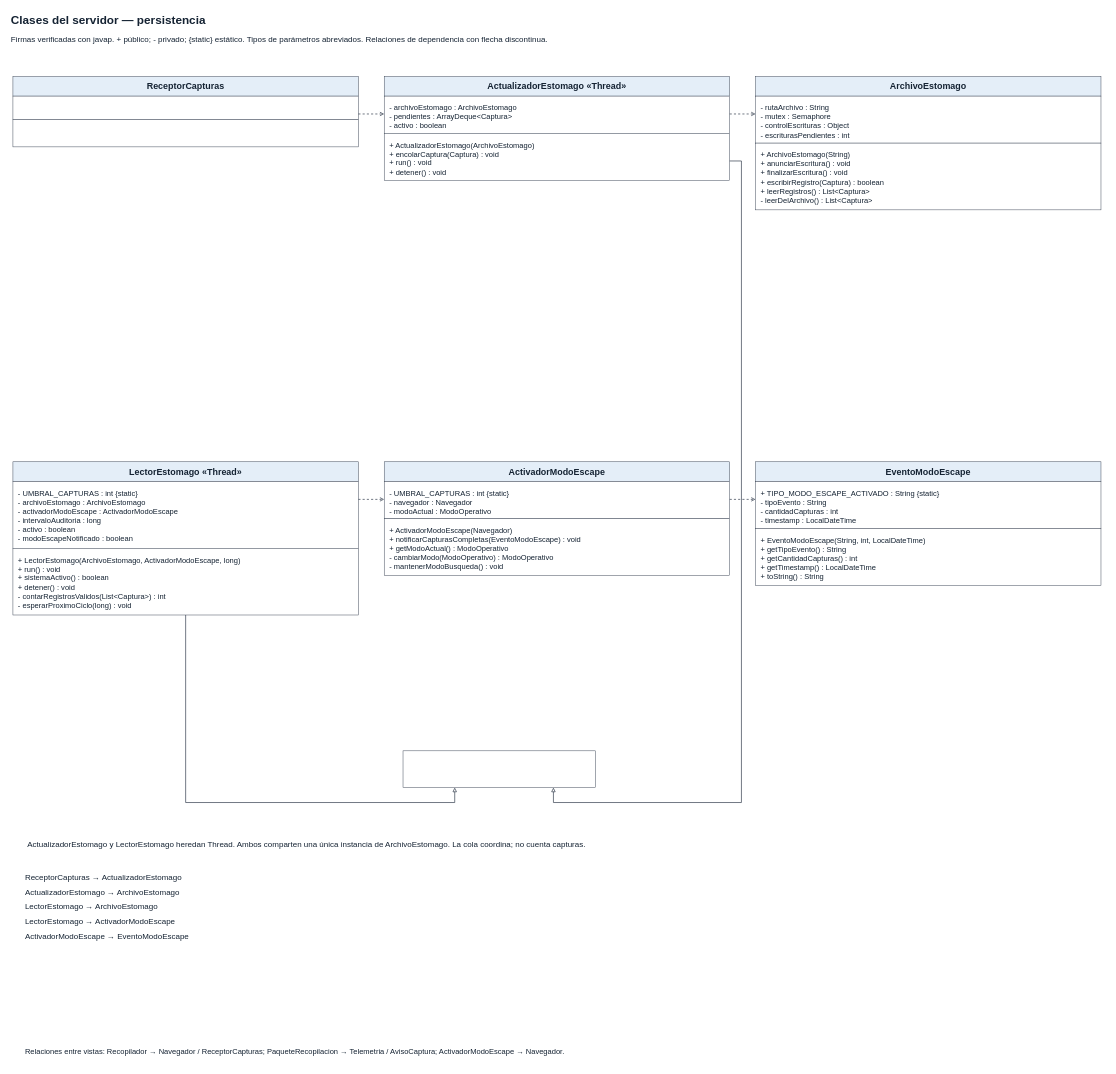
Some shapes in this 1116 by 1074 pixel diagram are drawn without their labels. The shapes that lost their labels are listed below. From the top down, each one's box as (x1, y1, x2, y2) in pixels, then its label:
(12, 96, 358, 120): - actualizadorEstomago : ActualizadorEstomago
(12, 119, 358, 147): + ReceptorCapturas(ActualizadorEstomago) + notificarCaptura(AvisoCaptura) : void
(403, 750, 596, 787): Thread «Java» + run() : void
